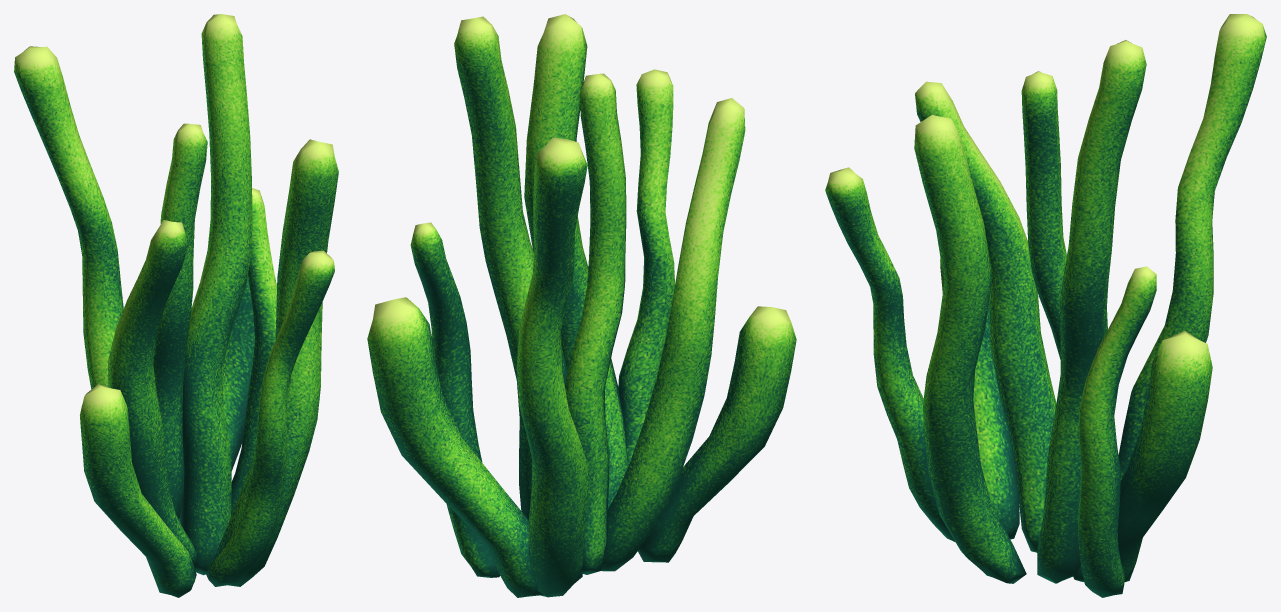
File: shrub-noodle-1c.fbx
The picture shows the model from 3 angles, left to right: view 1: azimuth 30°, elevation 25°; view 2: azimuth 150°, elevation 25°; view 3: azimuth 270°, elevation 25°; orthographic projection. The views are drawn at different scales.
Parts seen in each view (by area): view 1: Cube.005; view 2: Cube.005; view 3: Cube.005.
Part boxes in pixels (left/top/right/bottom): Cube.005: left=14, top=14, right=338, bottom=597; Cube.005: left=367, top=14, right=796, bottom=597; Cube.005: left=825, top=14, right=1266, bottom=597.
Bounding box in the file's own units: 1317 × 2355 × 1656.
1 material, 1 textured.
